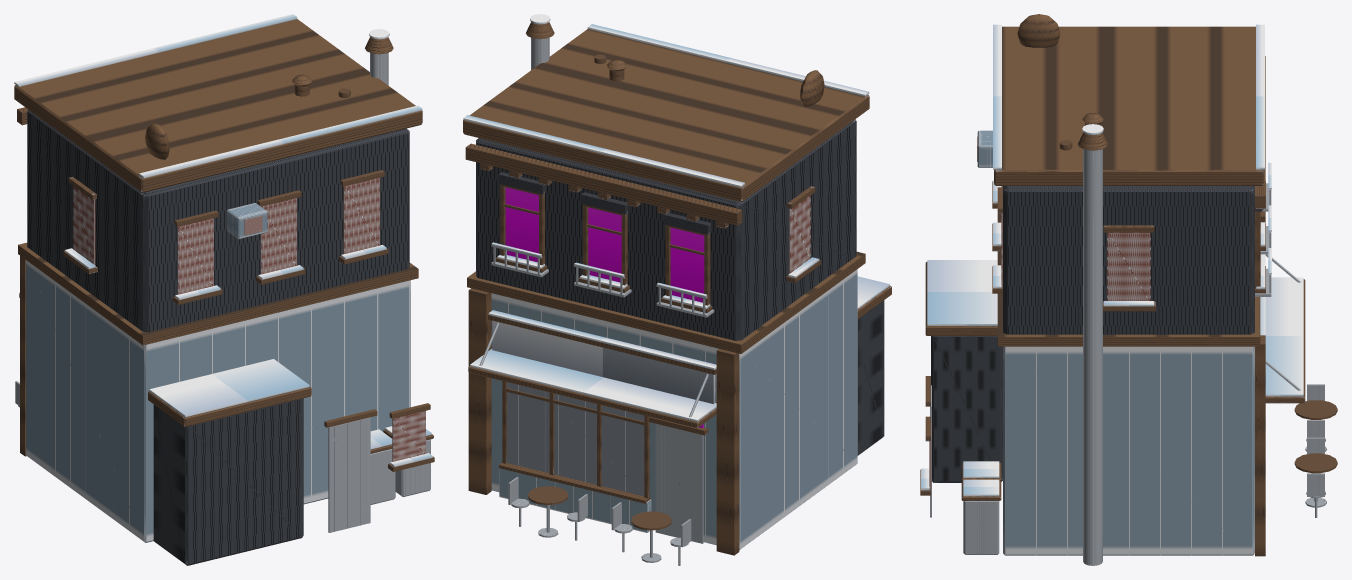
The model's file is ck_shop_pizzeria.fbx.
3 views of the same model, side by side, from view 1: azimuth 30°, elevation 25°; view 2: azimuth 150°, elevation 25°; view 3: azimuth 270°, elevation 25° (orthographic). The views are drawn at different scales.
Parts seen in each view (by area): view 1: ck_shop_pizzeria; view 2: ck_shop_pizzeria; view 3: ck_shop_pizzeria.
Part boxes in pixels (x1,y1,x2,y2): ck_shop_pizzeria: [14, 14, 434, 565]; ck_shop_pizzeria: [463, 14, 891, 565]; ck_shop_pizzeria: [920, 14, 1337, 565].
Bounding box in the file's own units: 1897 × 2500 × 2184.
